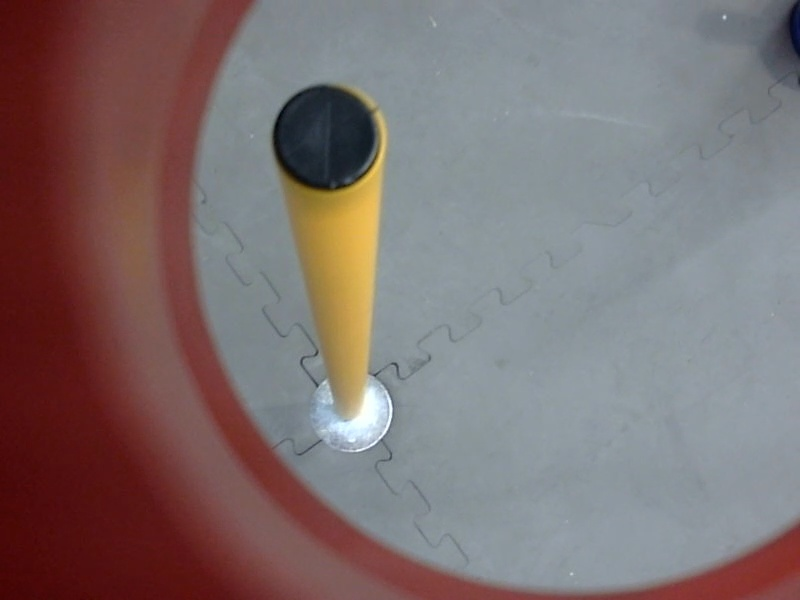tip: (264, 77, 394, 201)
